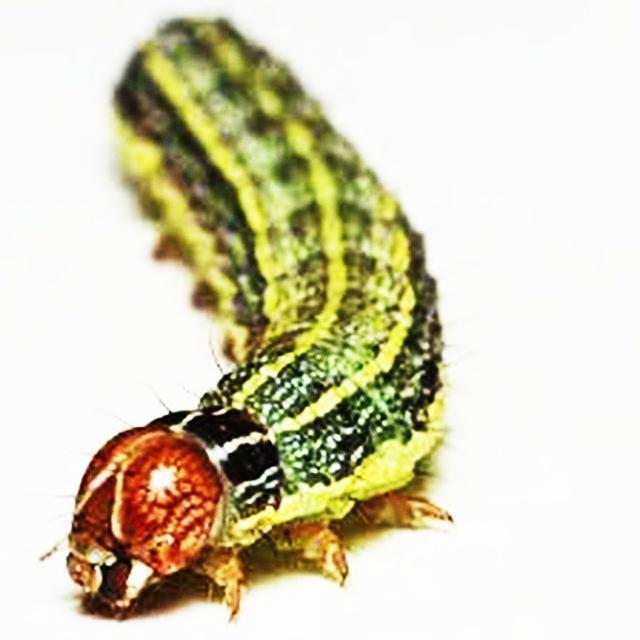gusano_cogollero: (32, 14, 454, 628)
